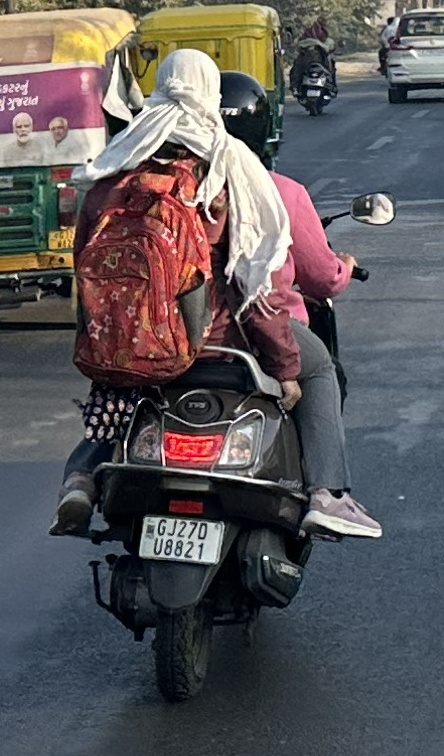BikeWithRider: (45, 48, 394, 704), (291, 16, 341, 113)
Helmet: (212, 69, 277, 166)
NoHelmet: (148, 46, 228, 146)
